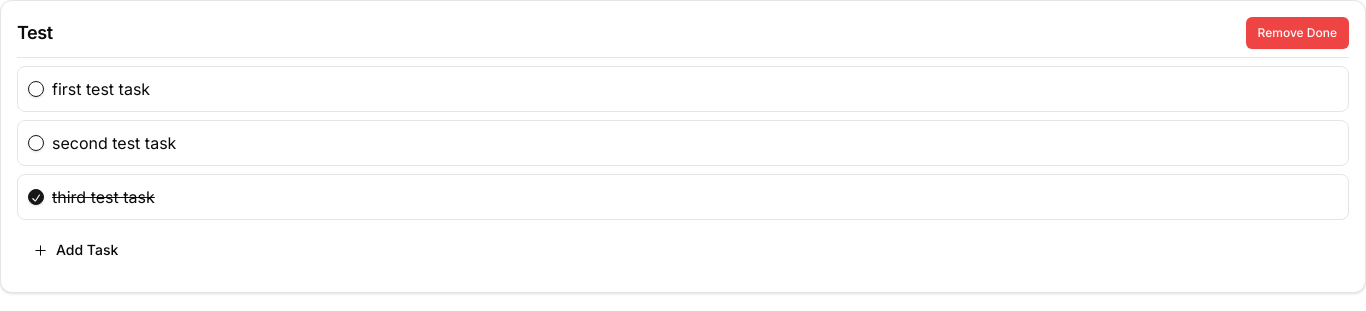
Scenario: Checklist › editForm › should show edit form properly
This screenshot has width=1366, height=311.
Right-click the button with test id "checklist-task" showing "first test task".
right_click(101, 89)  # box [17, 66, 1349, 112]
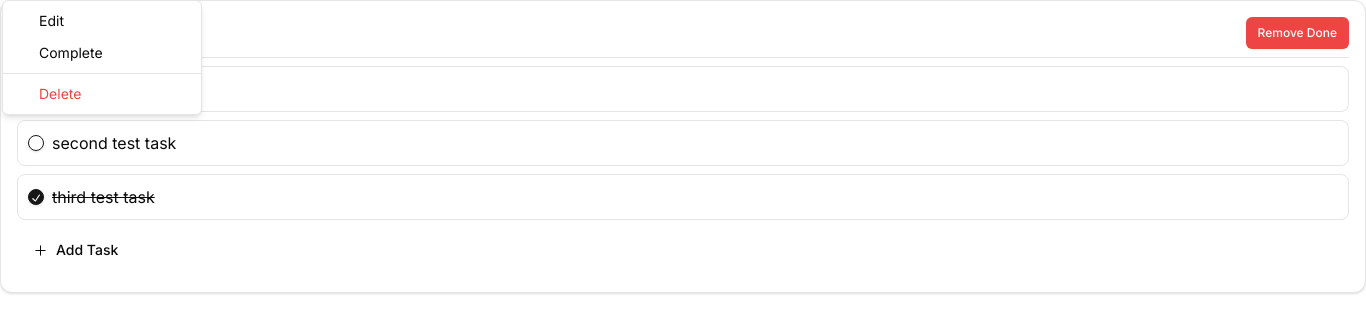
expect the menu with test id "task-context-menu" is shown: met, box [2, 0, 202, 115]
